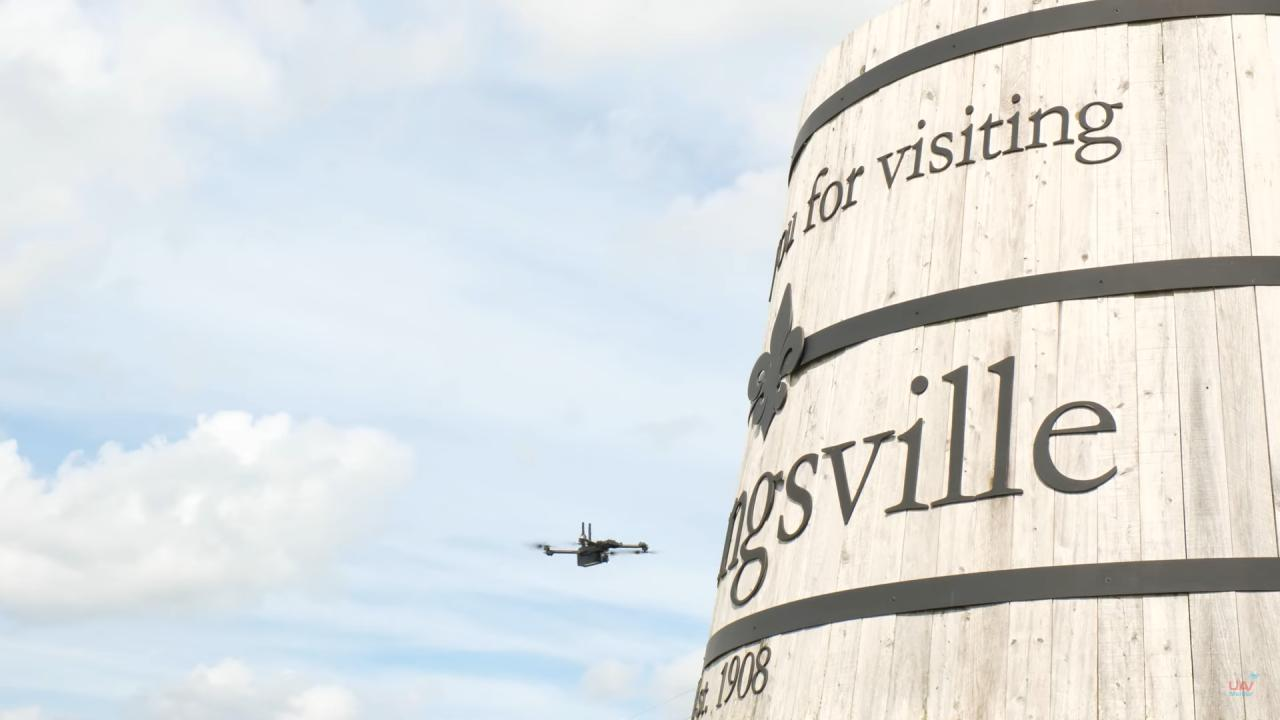Drone: (512, 509, 671, 581)
